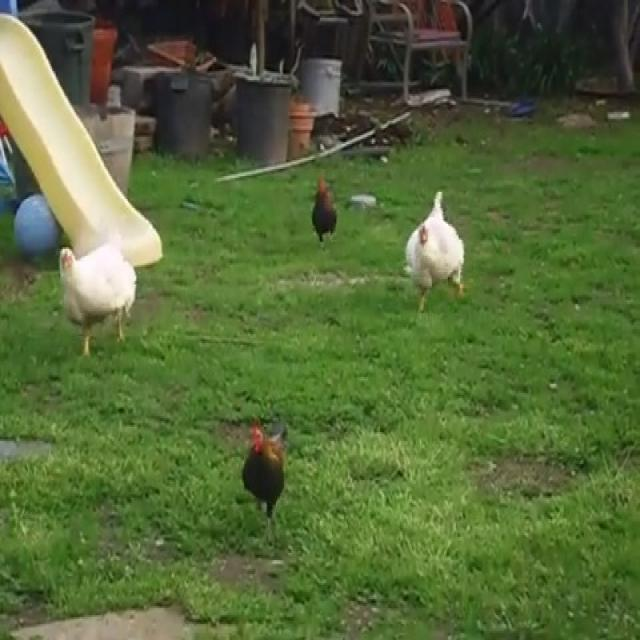running: (55, 233, 141, 364), (400, 188, 475, 314), (241, 411, 292, 528), (309, 167, 347, 245)
